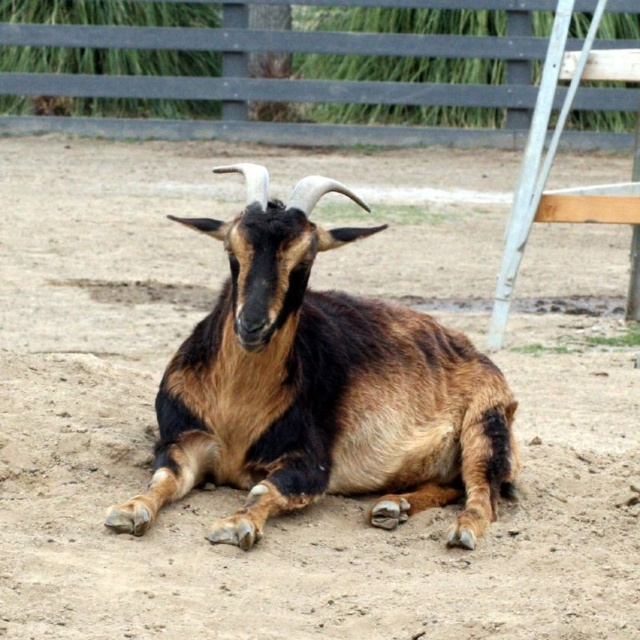Goat: (84, 161, 512, 552)
